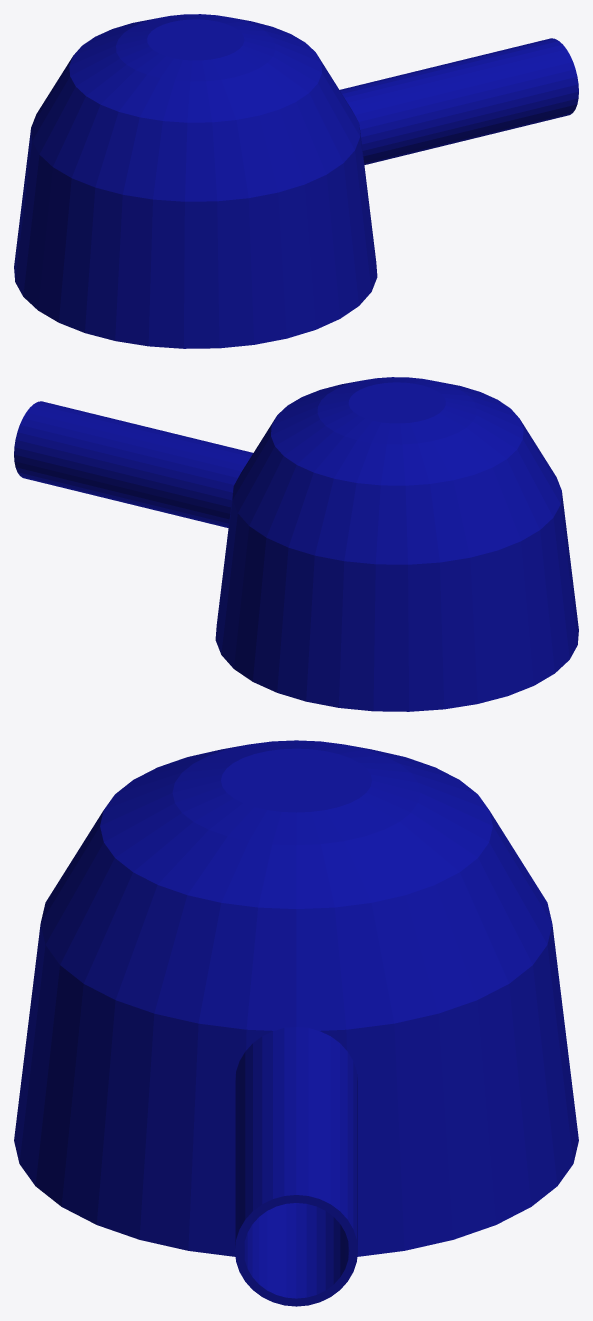
The model's file is turret.obj.
3 views of the same model, one above another, from view 1: azimuth 30°, elevation 25°; view 2: azimuth 150°, elevation 25°; view 3: azimuth 270°, elevation 25° (orthographic). The views are drawn at different scales.
Visible parts, largest first — view 1: Cylinder, Cylinder.001; view 2: Cylinder, Cylinder.001; view 3: Cylinder, Cylinder.001.
Part boxes in pixels (x1,y1,x2,y2): Cylinder: [14, 14, 377, 348]; Cylinder.001: [339, 38, 578, 164]; Cylinder: [215, 377, 578, 711]; Cylinder.001: [14, 401, 253, 527]; Cylinder: [14, 740, 578, 1256]; Cylinder.001: [235, 1027, 357, 1306].
Size of the model in its own units: 2.21 by 0.9394 by 1.34.
